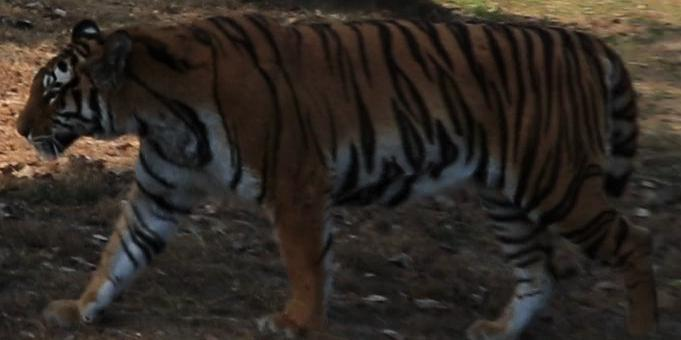tiger: (17, 12, 655, 339)
